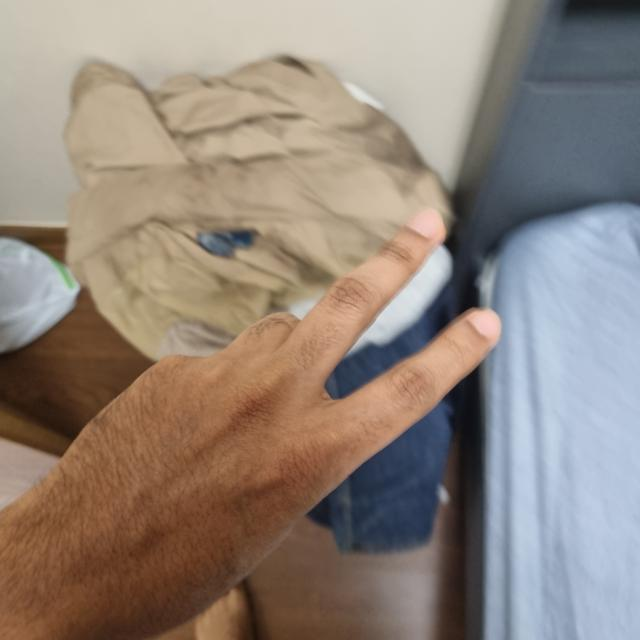Scissors: (13, 207, 498, 634)
